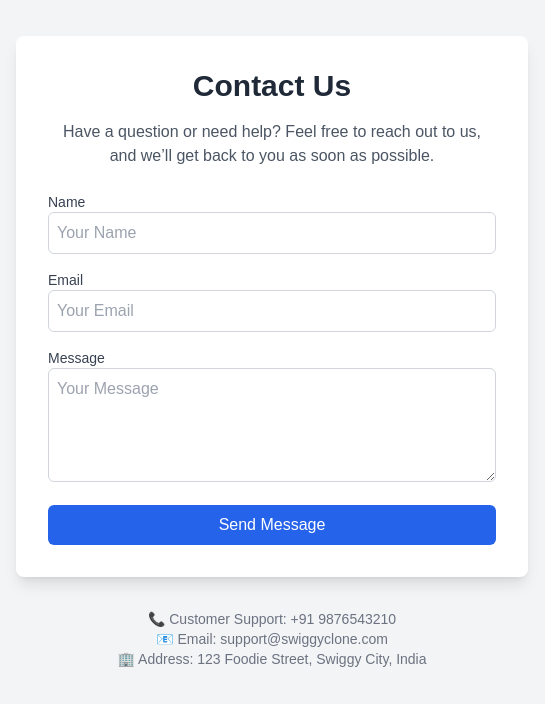
Test: ContactUs Component › shows success message on valid form submission
Note: Fill in valid inputs
In the field labelled "Name": (272, 232) [48,212,496,254], type "John Doe"
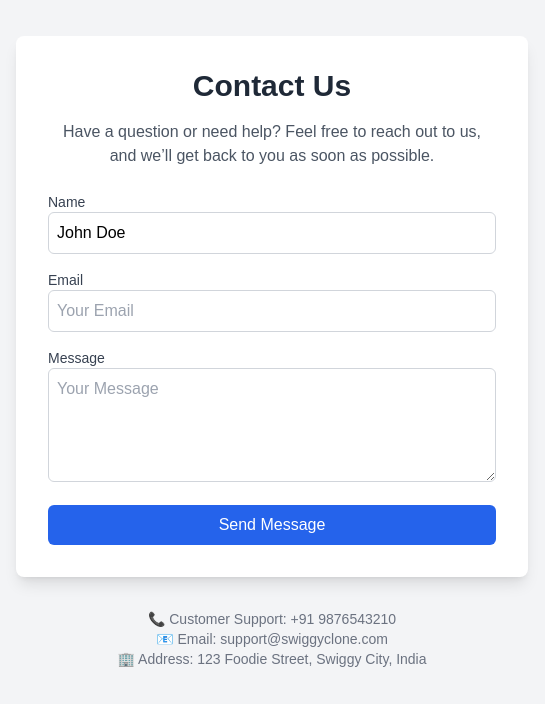
In the field labelled "Email": (272, 310) [48,290,496,332], type "john.doe@example.com"
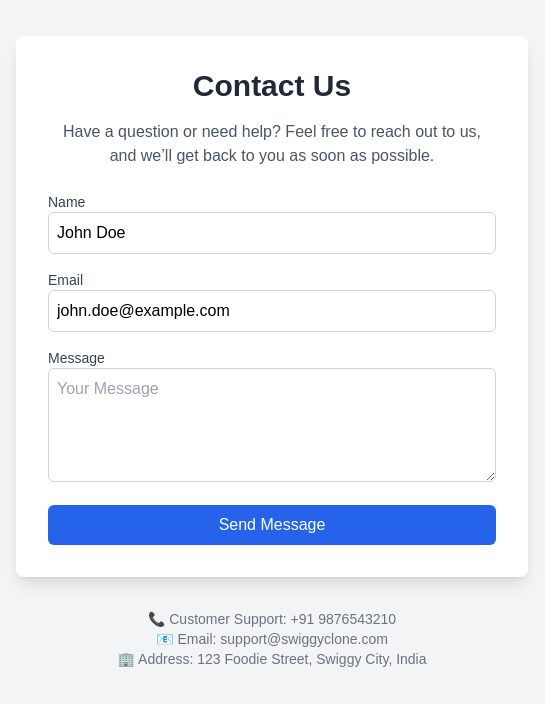
In the text box labelled "Message": (272, 424) [48,368,496,482], type "This is a test message."
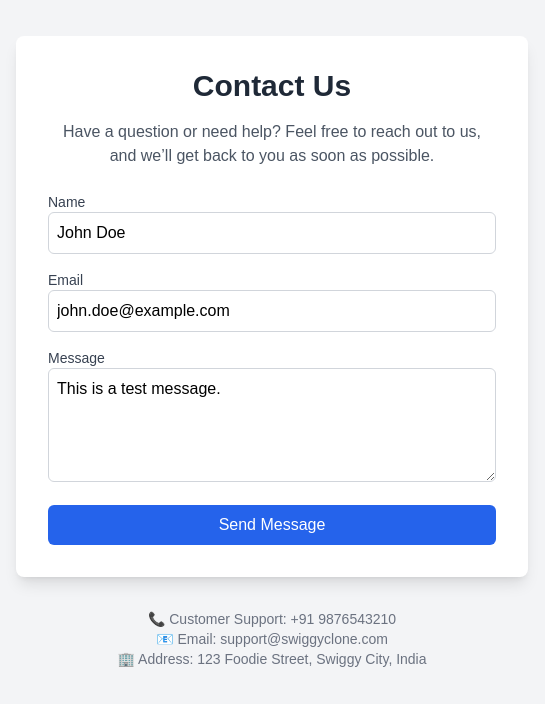
Note: Submit the form
Click the button "Send Message": (272, 524) [48,504,496,544]
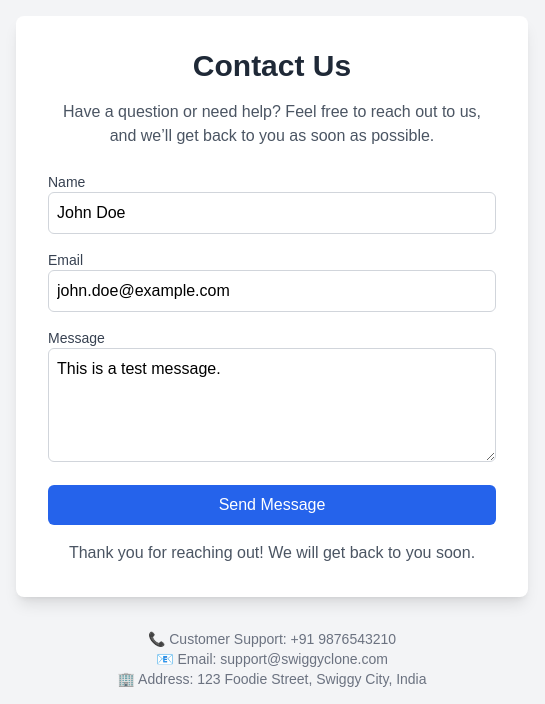
Now the text "Thank you for reaching out! We will get back to you soon." is shown, box [48,540,496,564]
